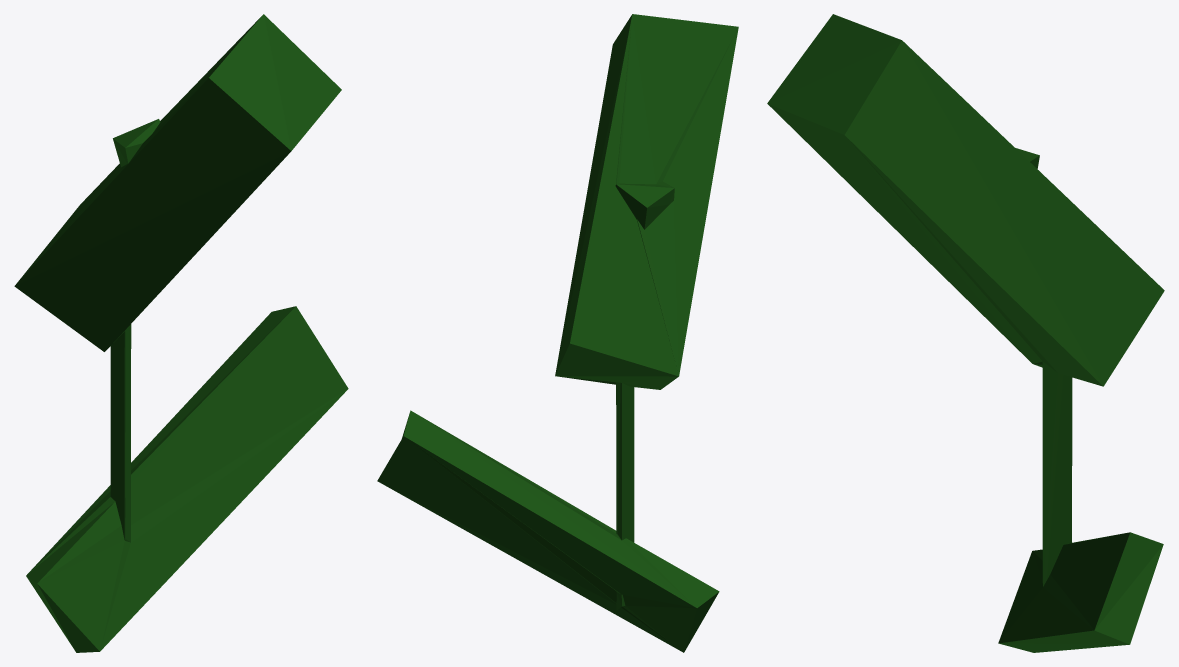
The picture shows the model from 3 angles, left to right: view 1: azimuth 30°, elevation 25°; view 2: azimuth 150°, elevation 25°; view 3: azimuth 270°, elevation 25°; orthographic projection. The views are drawn at different scales.
Visible parts, largest first — view 1: 942_Cube.3808; view 2: 942_Cube.3808; view 3: 942_Cube.3808.
Part boxes in pixels (bbox=[...]): 942_Cube.3808: bbox=[14, 14, 348, 652]; 942_Cube.3808: bbox=[377, 14, 738, 652]; 942_Cube.3808: bbox=[767, 14, 1164, 652].
Size of the model in its own units: 11.98 by 21.75 by 11.62.
